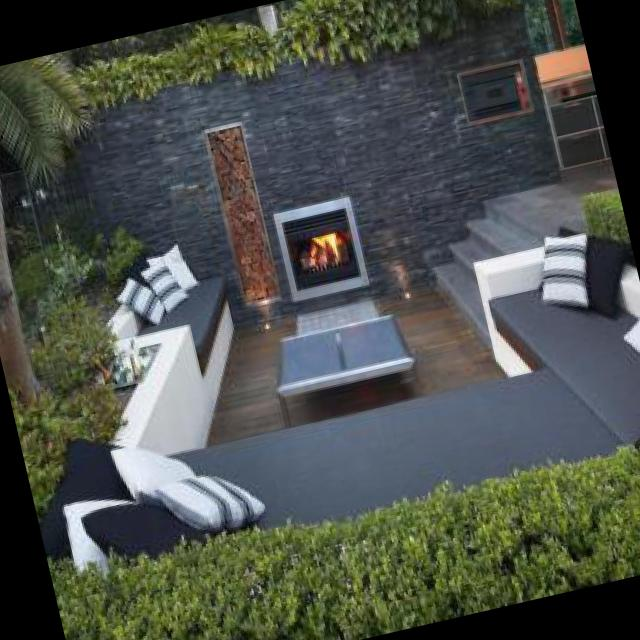Fire: (299, 221, 349, 277)
